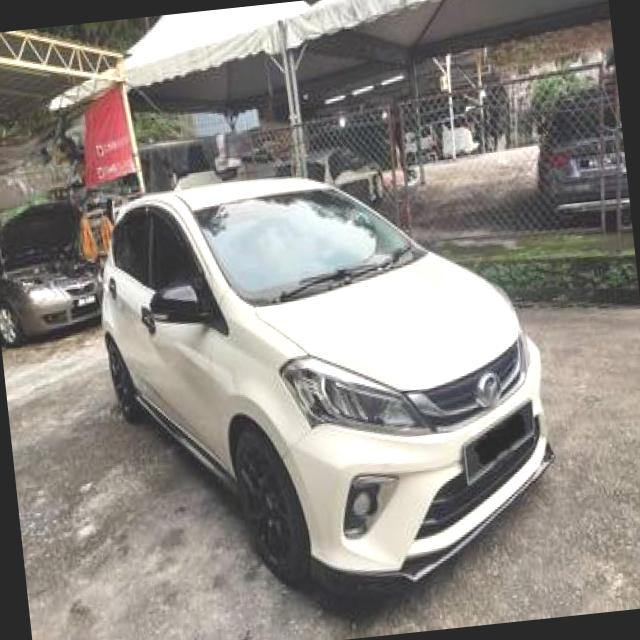PeroduaMyvi: (84, 142, 568, 626)
